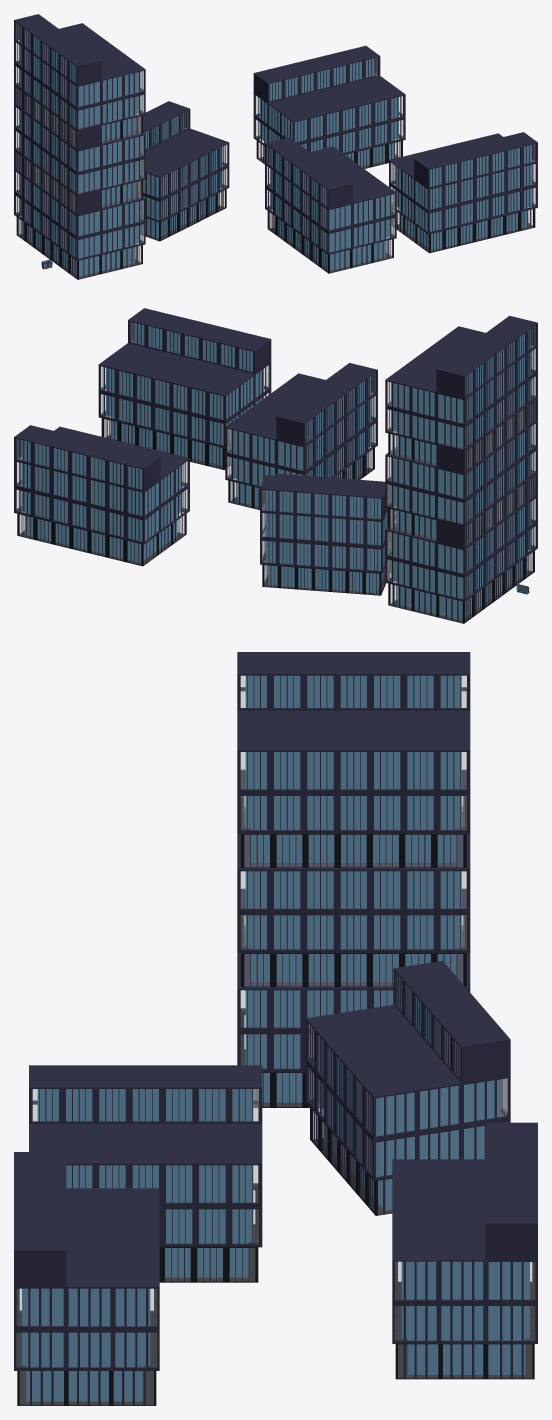
The model's file is am-env-buildings.glb.
3 renders of one model, top to bottom at view 1: azimuth 30°, elevation 25°; view 2: azimuth 150°, elevation 25°; view 3: azimuth 270°, elevation 25°, orthographic. The views are drawn at different scales.
Visible parts, largest first — view 1: building.008, building.002, building.001, building.005, building.003, building, building.004; view 2: building.008, building.002, building.005, building.001, building, building.003, building.004; view 3: building.005, building.001, building, building.002, building.008, building.004, building.003.
Boxes of the visible parts, x1,y1,x2,y2 form: building.008: (389, 132, 537, 253); building.002: (253, 45, 405, 168); building.001: (265, 137, 396, 273); building.005: (14, 14, 145, 147); building.003: (14, 148, 145, 279); building: (135, 101, 229, 241); building.004: (14, 83, 145, 212); building.008: (98, 308, 271, 469); building.002: (14, 425, 189, 566); building.005: (385, 315, 537, 470); building.001: (225, 363, 377, 509); building: (260, 473, 397, 595); building.003: (385, 471, 537, 623); building.004: (385, 396, 537, 545); building.005: (237, 652, 470, 867); building.001: (29, 1065, 262, 1282); building: (306, 960, 510, 1215); building.002: (392, 1122, 537, 1379); building.008: (14, 1152, 159, 1405); building.004: (237, 771, 470, 987); building.003: (237, 890, 470, 1107).
Size of the model in its own units: 185 by 91.9 by 110.
